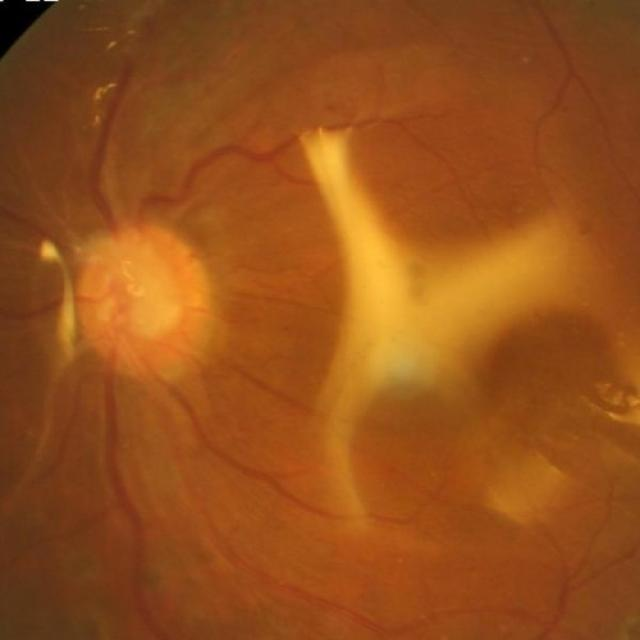OC: (131, 285, 180, 336)
OD: (73, 224, 215, 377)
